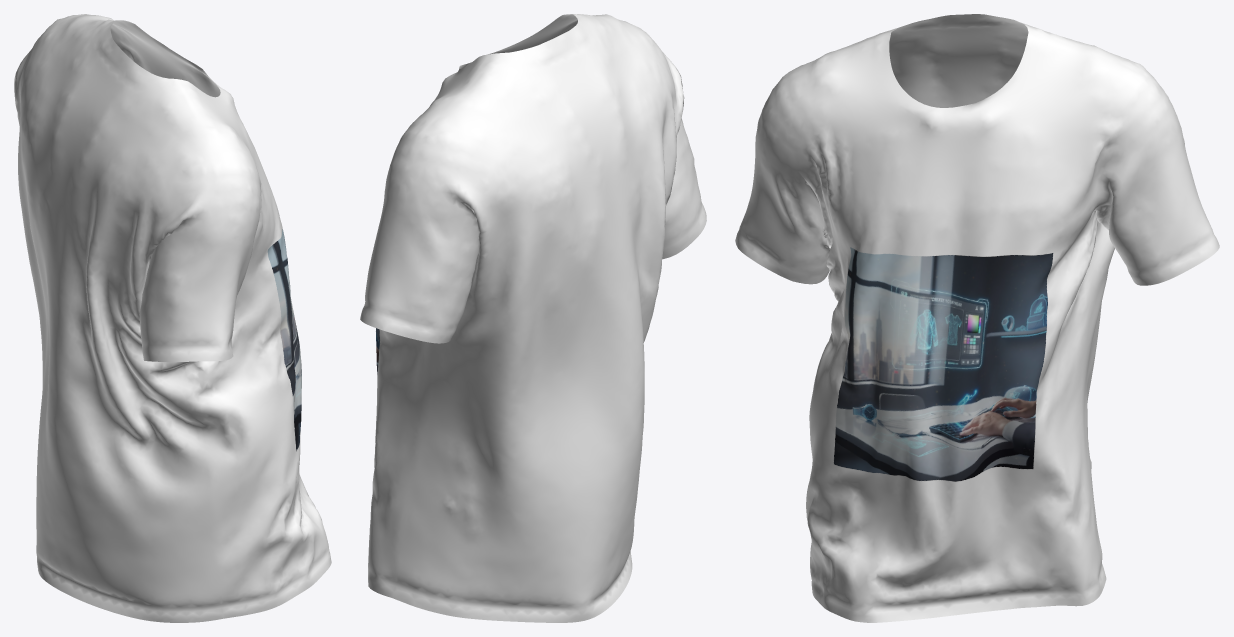
The model's file is 1762178390547-lugaFata.glb.
The picture shows the model from 3 angles, left to right: view 1: azimuth 30°, elevation 25°; view 2: azimuth 150°, elevation 25°; view 3: azimuth 270°, elevation 25°; orthographic projection. The views are drawn at different scales.
Visible parts, largest first — view 1: Material1722, Material1718, Material1724, Material1720; view 2: Material1722, Material1724, Material1718, Material1720; view 3: Material1718, Material1724, Material1722, Material1720.
Boxes of the visible parts, left/top/right/bottom form: Material1722: left=14, top=14, right=223, bottom=622; Material1718: left=88, top=14, right=331, bottom=618; Material1724: left=16, top=29, right=260, bottom=362; Material1720: left=102, top=20, right=230, bottom=105; Material1722: left=392, top=14, right=677, bottom=622; Material1724: left=360, top=41, right=706, bottom=343; Material1718: left=368, top=14, right=629, bottom=597; Material1720: left=454, top=14, right=586, bottom=76; Material1718: left=776, top=35, right=1144, bottom=622; Material1724: left=735, top=75, right=1219, bottom=285; Material1722: left=783, top=20, right=1151, bottom=586; Material1720: left=876, top=14, right=1038, bottom=119.
Bounding box in the file's own units: 32.85 × 70.89 × 56.91.
Materials: 4 (2 with a texture image).
